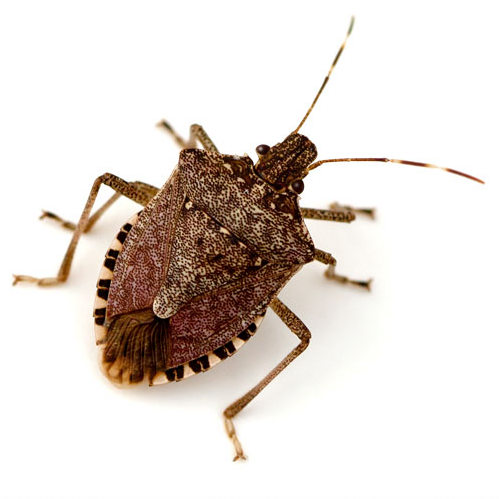Brown Marmorated Stink Bug: (9, 13, 492, 465)
